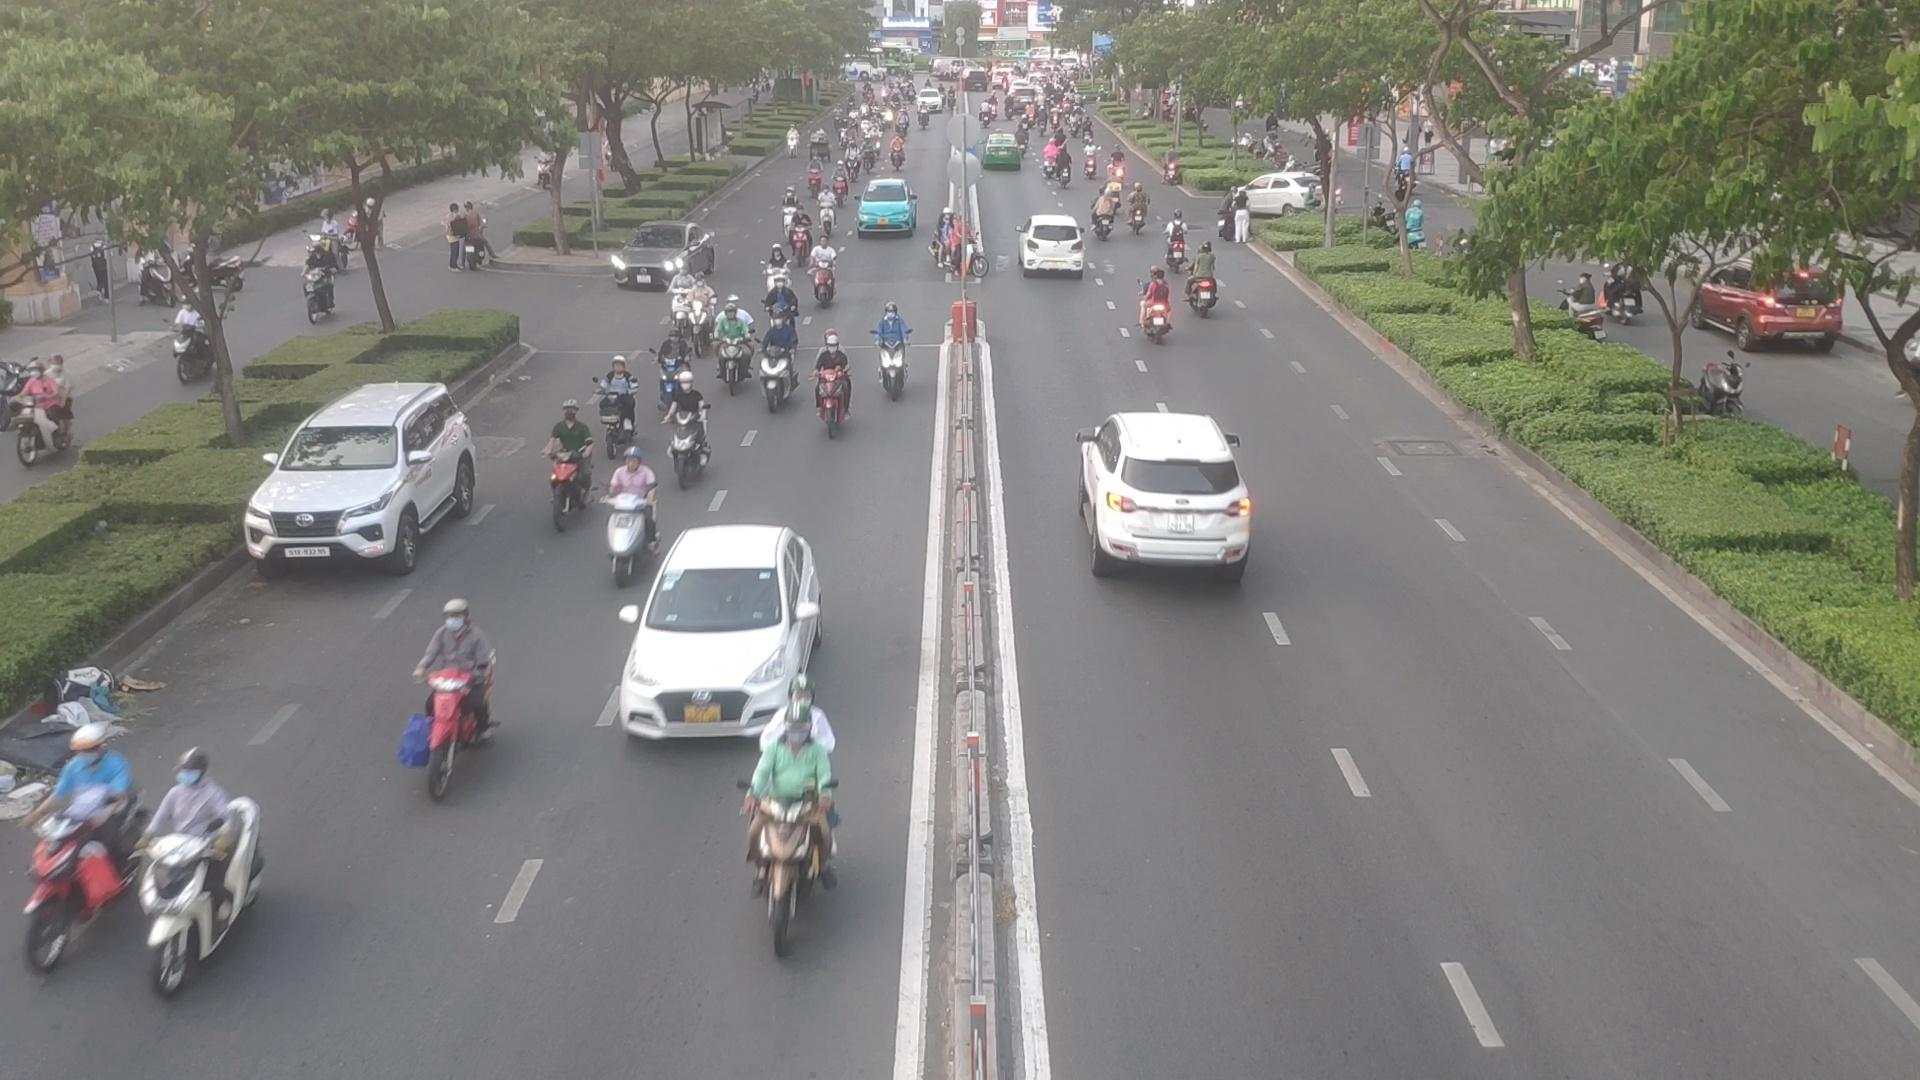car: (604, 522, 824, 742), (244, 382, 491, 570), (1079, 413, 1254, 571), (1689, 258, 1851, 353), (611, 224, 717, 293), (1018, 216, 1089, 278), (1238, 173, 1323, 218), (857, 179, 920, 239), (982, 136, 1026, 171)
motorbike: (737, 696, 860, 963), (144, 746, 270, 986), (13, 740, 135, 971), (425, 599, 502, 799), (583, 345, 650, 473), (603, 462, 662, 583), (539, 404, 597, 525), (866, 297, 916, 400), (746, 327, 804, 414), (808, 334, 855, 429), (644, 315, 694, 401), (674, 372, 712, 476), (715, 295, 752, 396), (682, 270, 727, 351), (947, 216, 992, 287), (1189, 245, 1226, 330), (1135, 266, 1175, 335), (811, 237, 848, 307), (764, 237, 800, 306), (654, 262, 698, 320), (1160, 218, 1196, 265), (767, 284, 796, 338), (787, 214, 815, 260), (811, 194, 840, 237), (1134, 191, 1158, 235), (1097, 194, 1114, 237)
